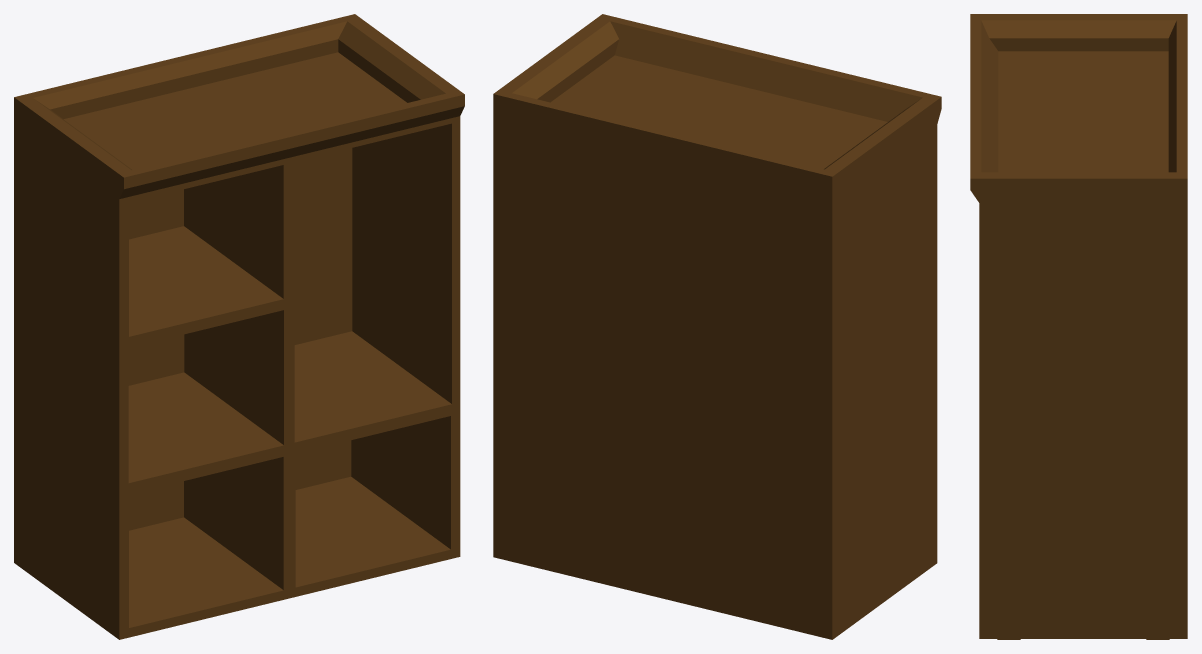
File: Shelf.fbx
3 renders of one model, left to right at view 1: azimuth 30°, elevation 25°; view 2: azimuth 150°, elevation 25°; view 3: azimuth 270°, elevation 25°, orthographic.
Visible parts, largest first — view 1: Cube.021; view 2: Cube.021; view 3: Cube.021.
Boxes of the visible parts, x1,y1,x2,y2 form: Cube.021: (14,14,464,639); Cube.021: (493,14,941,639); Cube.021: (970,14,1187,639).
Size of the model in its own units: 209 by 497 by 374.
